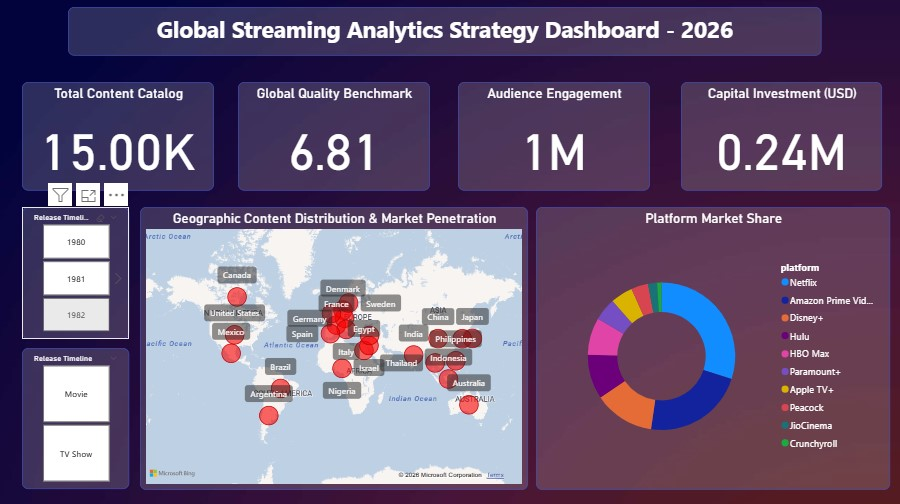

This screenshot's page, from the dashboard's own definition file:
{"tool":"powerbi","page":{"name":"Page 1","canvas":[1280,720],"ordinal":0},"visuals":[{"type":"map","title":"Geographic Content Distribution & Market Penetration","fields":{"Category":["country_summary.country"],"Size":["CountNonNull(country_summary.total_titles)"]},"box":[202.7,297.6,549.9,401.1],"z":0},{"type":"donutChart","title":"Platform Market Share","fields":{"Category":["titles.platform"],"Y":["Count(titles.show_id)"]},"box":[763.9,297.6,501.7,401.1],"z":1000},{"type":"card","title":"Total Content Catalog","fields":{"Values":["Count(titles.show_id)"]},"box":[35.8,120.1,271.7,154.5],"z":2000},{"type":"card","title":"Global Quality Benchmark","fields":{"Values":["Avg(titles.imdb_rating)"]},"box":[341.8,120.1,271.7,154.5],"z":3000},{"type":"card","title":" Audience Engagement","fields":{"Values":["Sum(titles.hours_watched_million)"]},"box":[653.6,120.1,271.7,154.5],"z":4000},{"type":"card","title":" Capital Investment (USD)","fields":{"Values":["Sum(titles.budget_million_usd)"]},"box":[969.7,120.1,284.6,154.5],"z":5000},{"type":"slicer","fields":{"Values":["titles.release_year"]},"box":[35.8,297.5,151.6,187.4],"z":6000},{"type":"slicer","fields":{"Values":["titles.type"]},"box":[35.8,497.7,151.6,200.2],"z":7000},{"type":"textbox","box":[100.1,14.3,1068.3,68.6],"z":8000}]}

Visuals, with their boxes in screenshot pixels (x1, y1, x2, y2), scaled from the page's 1280x720 canvas onto the 900x504 screenshot:
"Geographic Content Distribution & Market Penetration" map: (x1=143, y1=208, x2=529, y2=489)
"Platform Market Share" donutChart: (x1=537, y1=208, x2=890, y2=489)
"Total Content Catalog" card: (x1=25, y1=84, x2=216, y2=192)
"Global Quality Benchmark" card: (x1=240, y1=84, x2=431, y2=192)
" Audience Engagement" card: (x1=460, y1=84, x2=651, y2=192)
" Capital Investment (USD)" card: (x1=682, y1=84, x2=882, y2=192)
slicer - titles.release_year: (x1=25, y1=208, x2=132, y2=339)
slicer - titles.type: (x1=25, y1=348, x2=132, y2=489)
textbox: (x1=70, y1=10, x2=822, y2=58)
